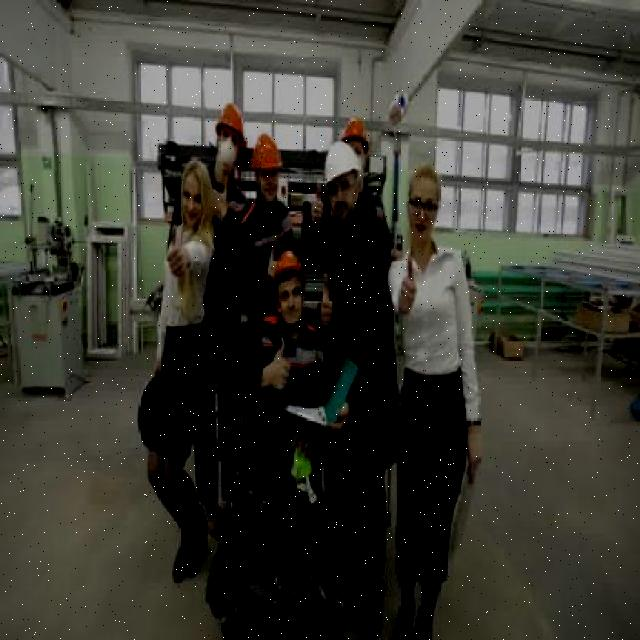Helmet: (322, 140, 364, 192), (216, 103, 247, 146), (248, 132, 280, 172), (275, 248, 303, 284), (344, 117, 372, 148)
Mask: (206, 306, 356, 640), (200, 183, 254, 509), (235, 198, 298, 312)
